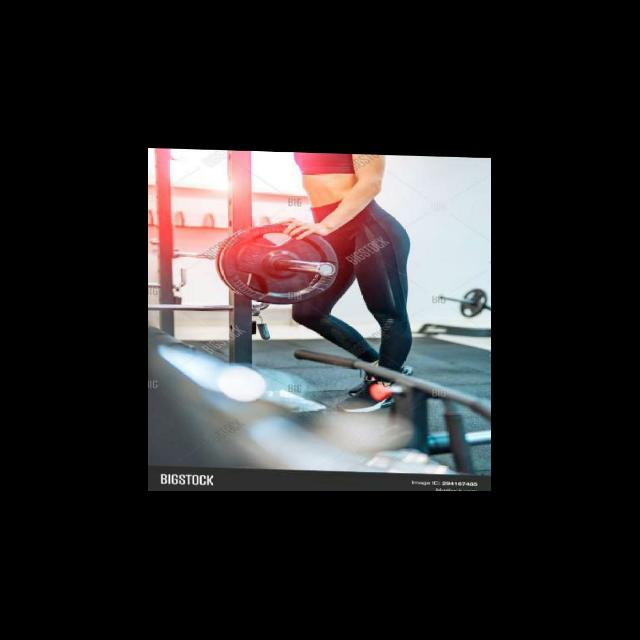barbell: (212, 217, 343, 309)
